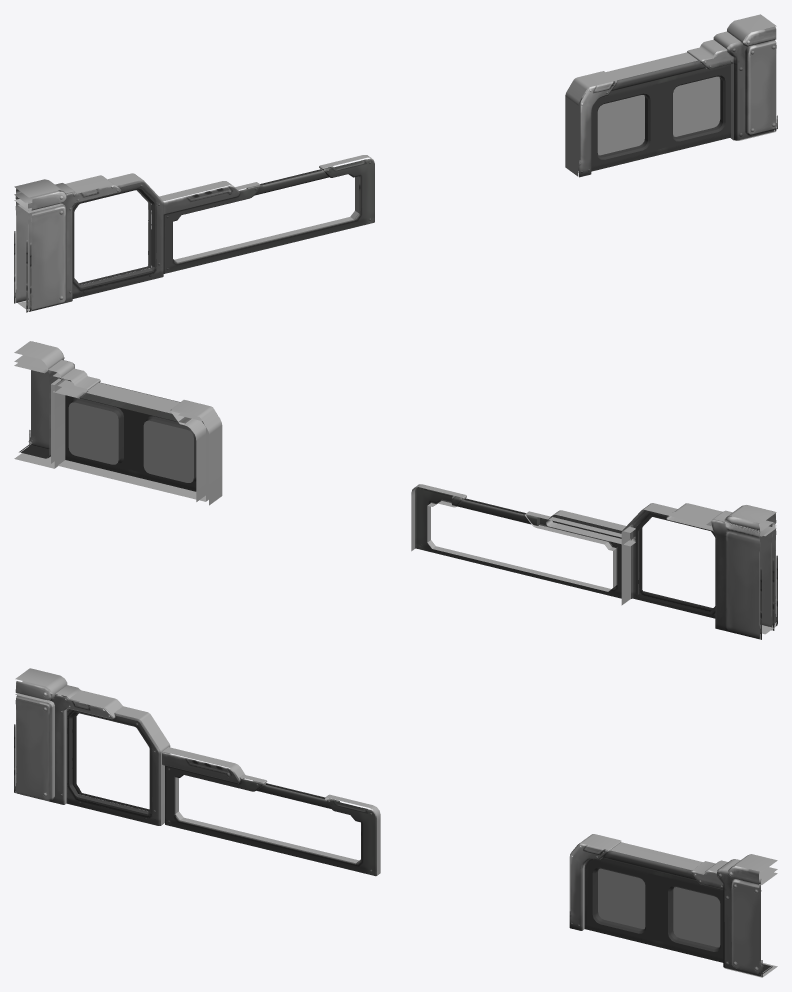
The model's file is UICityRush_Lower.fbx.
The picture shows the model from 3 angles, top to bottom: view 1: azimuth 30°, elevation 25°; view 2: azimuth 150°, elevation 25°; view 3: azimuth 330°, elevation 25°; orthographic projection.
Visible parts, largest first — view 1: polySurface4; view 2: polySurface4; view 3: polySurface4.
Part boxes in pixels (box(x1,y1,x2,y2)): polySurface4: box(14, 14, 777, 312); polySurface4: box(14, 341, 777, 639); polySurface4: box(14, 668, 777, 977).
Bounding box in the file's own units: 160 × 24 × 6.71.
Materials: 5 (3 with a texture image).
